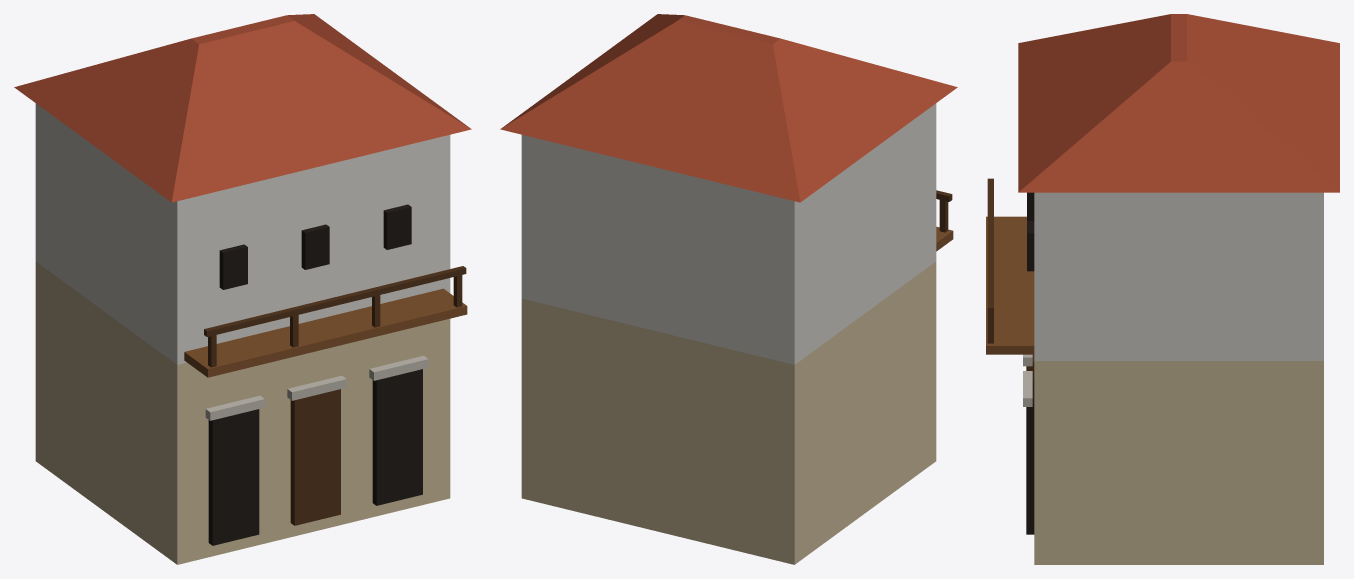
The model's file is angel_house_b_broken.glb.
3 views of the same model, side by side, from view 1: azimuth 30°, elevation 25°; view 2: azimuth 150°, elevation 25°; view 3: azimuth 270°, elevation 25° (orthographic). The views are drawn at different scales.
Parts seen in each view (by area): view 1: angel_house_b_piece1, angel_house_b_piece12, angel_house_b_piece2, angel_house_b_piece0, angel_house_b_piece8, angel_house_b_piece5, angel_house_b_piece6, angel_house_b_piece11, angel_house_b_piece4, angel_house_b_piece3, angel_house_b_piece7, angel_house_b_piece9; view 2: angel_house_b_piece5, angel_house_b_piece8, angel_house_b_piece3, angel_house_b_piece2, angel_house_b_piece10, angel_house_b_piece0, angel_house_b_piece1, angel_house_b_piece7, angel_house_b_piece9, angel_house_b_piece12; view 3: angel_house_b_piece4, angel_house_b_piece9, angel_house_b_piece1, angel_house_b_piece7, angel_house_b_piece10, angel_house_b_piece3, angel_house_b_piece8, angel_house_b_piece12, angel_house_b_piece2, angel_house_b_piece0, angel_house_b_piece6.
Boxes of the visible parts, <box> form: angel_house_b_piece1: <box>183,15,471,383</box>; angel_house_b_piece12: <box>181,208,343,543</box>; angel_house_b_piece2: <box>98,278,264,564</box>; angel_house_b_piece0: <box>111,88,237,393</box>; angel_house_b_piece8: <box>14,58,149,367</box>; angel_house_b_piece5: <box>35,186,129,506</box>; angel_house_b_piece6: <box>220,188,417,468</box>; angel_house_b_piece11: <box>272,364,389,541</box>; angel_house_b_piece4: <box>400,180,453,504</box>; angel_house_b_piece3: <box>114,41,191,118</box>; angel_house_b_piece7: <box>367,413,424,515</box>; angel_house_b_piece9: <box>318,17,463,123</box>; angel_house_b_piece5: <box>534,223,888,564</box>; angel_house_b_piece8: <box>634,109,908,333</box>; angel_house_b_piece3: <box>529,51,852,366</box>; angel_house_b_piece2: <box>521,215,936,518</box>; angel_house_b_piece10: <box>500,34,647,275</box>; angel_house_b_piece0: <box>830,52,957,282</box>; angel_house_b_piece1: <box>639,14,827,118</box>; angel_house_b_piece7: <box>521,264,553,422</box>; angel_house_b_piece9: <box>505,18,651,125</box>; angel_house_b_piece12: <box>936,190,953,251</box>; angel_house_b_piece4: <box>998,190,1275,564</box>; angel_house_b_piece9: <box>1033,129,1331,383</box>; angel_house_b_piece1: <box>986,14,1292,400</box>; angel_house_b_piece7: <box>1084,339,1323,564</box>; angel_house_b_piece10: <box>1146,89,1339,364</box>; angel_house_b_piece3: <box>1194,15,1339,148</box>; angel_house_b_piece8: <box>1250,26,1339,118</box>; angel_house_b_piece12: <box>986,178,1034,358</box>; angel_house_b_piece2: <box>1276,489,1323,564</box>; angel_house_b_piece0: <box>1018,22,1128,67</box>; angel_house_b_piece6: <box>986,67,1034,395</box>.
Bounding box in the file's own units: 2.2 × 3.15 × 2.2.
